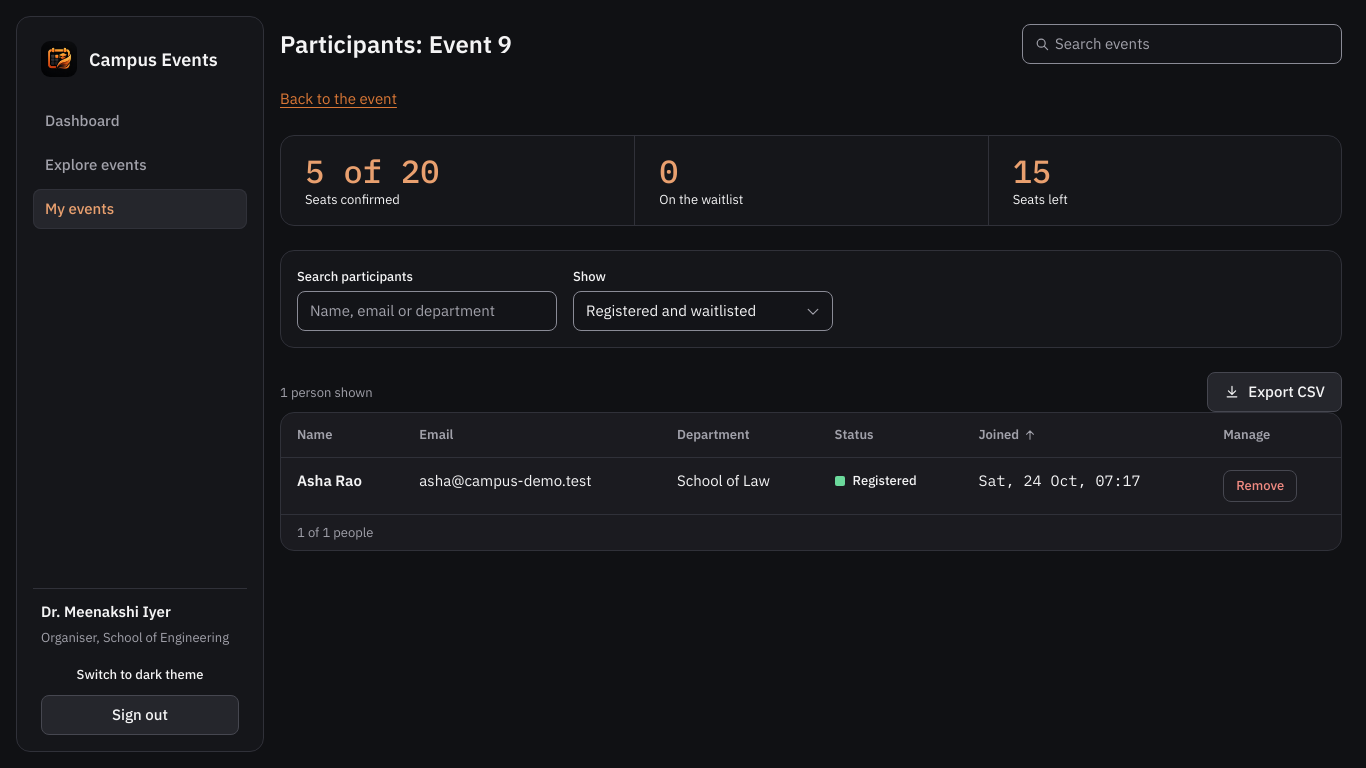
Scenario: removing a participant › can be cancelled from the dialog
The image size is (1366, 768).
Click the button with aria-label "Remove Asha Rao". click: (1260, 486)
box: [1223,470,1297,502]
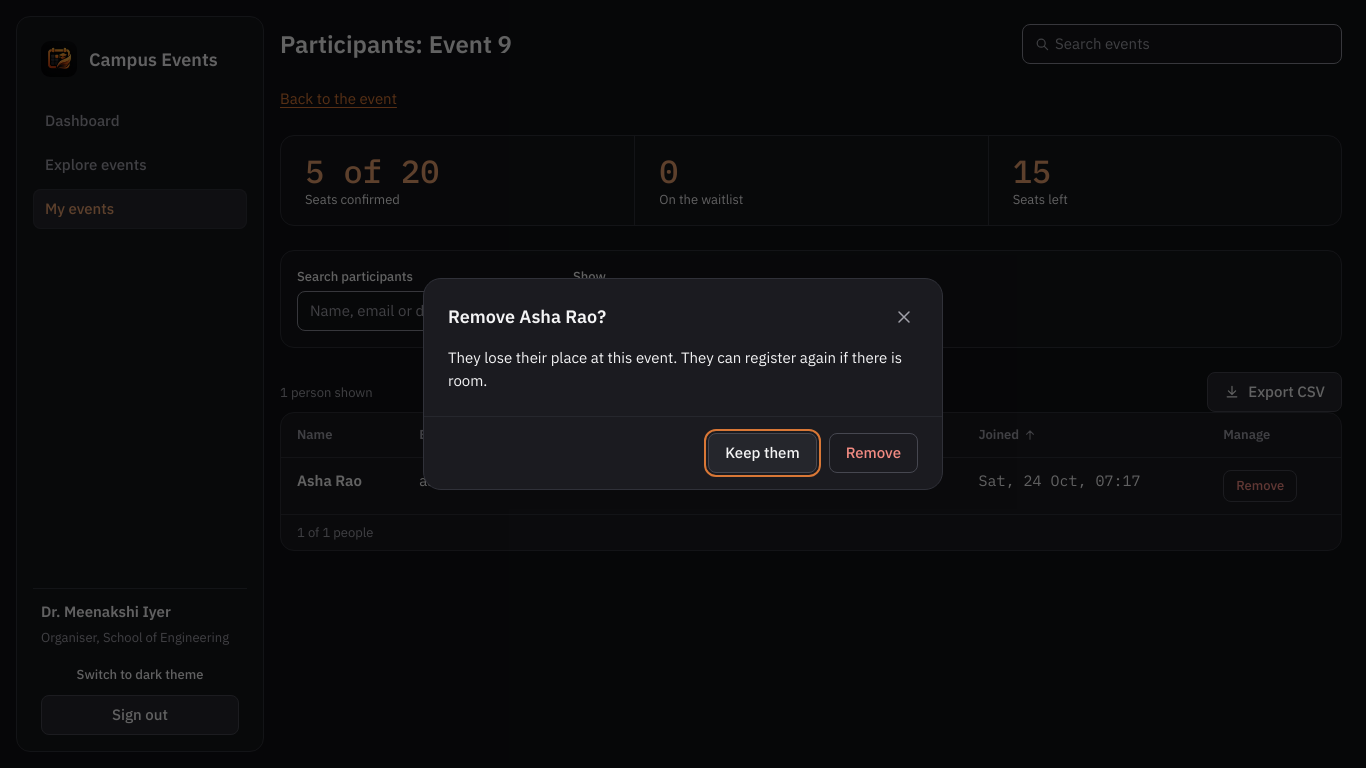
Click the button "Keep them". click: (762, 453)
box: [708,433,817,473]
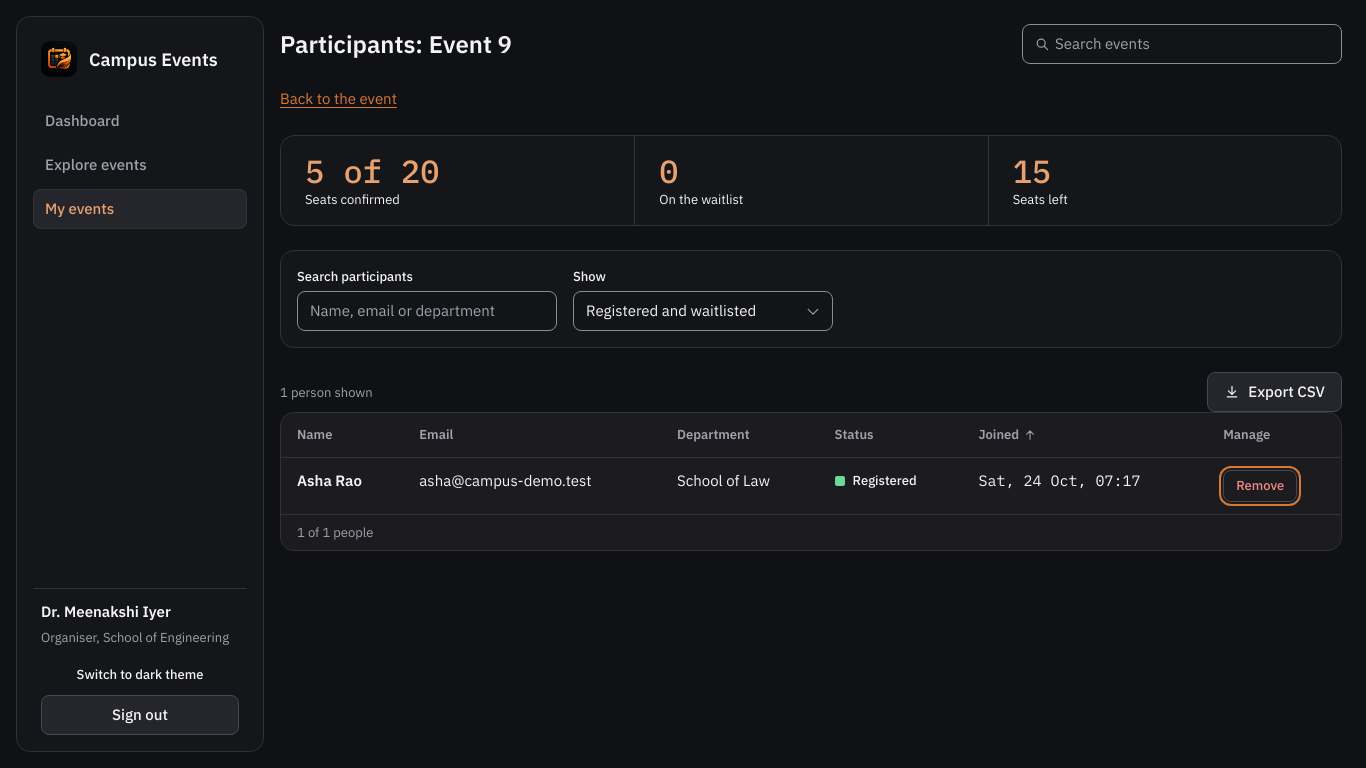
Check: the dialog is gone
